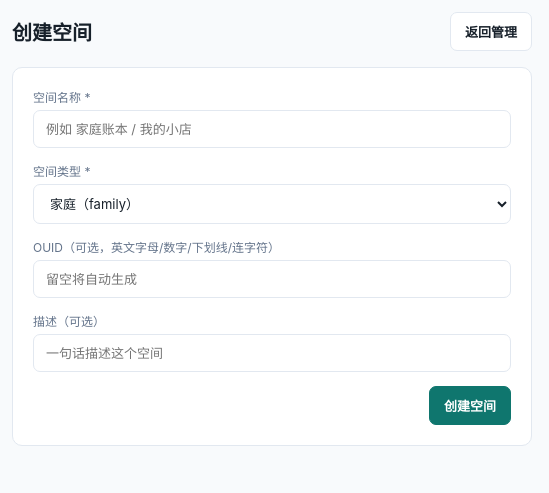
Test case: SpaceCreateView › surfaces an API error
Type "X" into the field with test id "create-name" at (272,129), box [33,110,511,148]
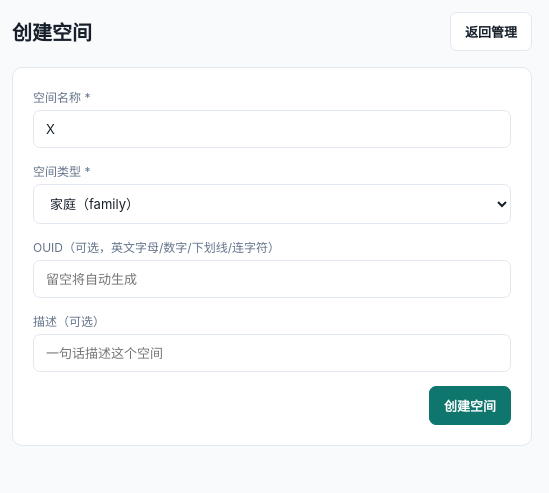
Submit the form
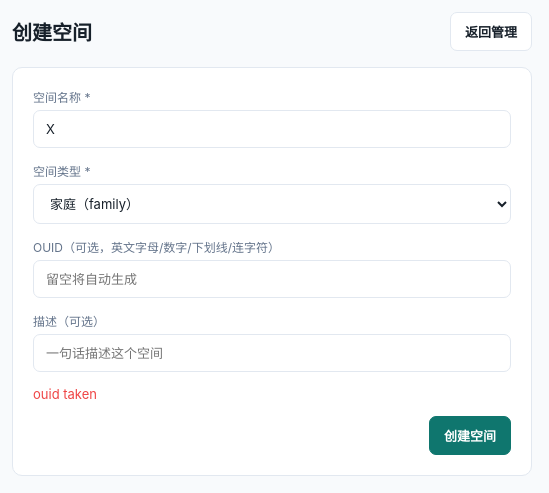
expect the text with test id "create-error" reads "ouid taken": met, box [33,386,97,402]
